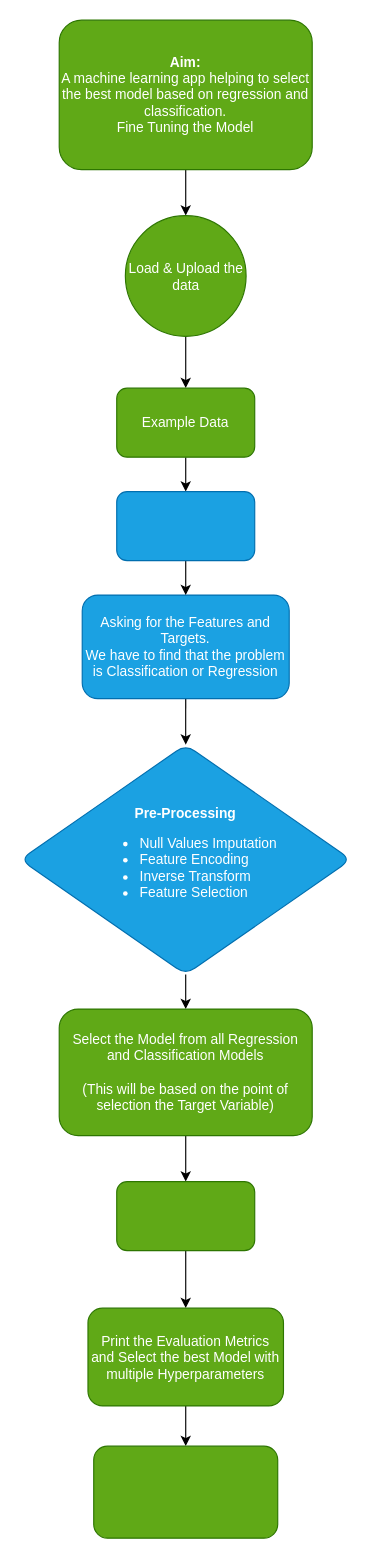
This 371x1558 diagram has some shape labels left out. The centre of each missing label's shape, as x and y in pixels:
"Add the Evaluation Metrics based on Problem" belongs at pixel 185 1215.
"Ask the user for input the data using slider and predict the output" belongs at pixel 185 1491.
"Check the Column Names and Data Types" belongs at pixel 185 525.
